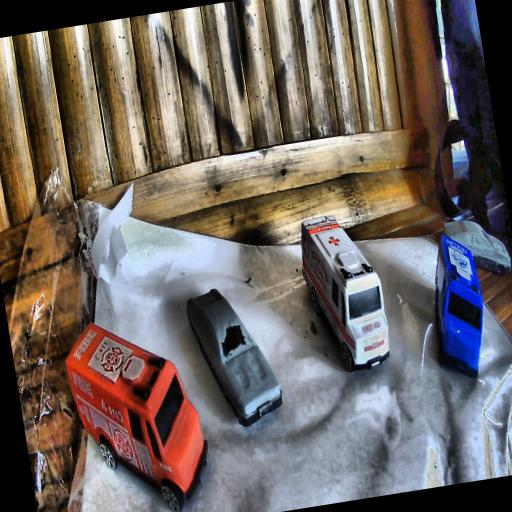ambulance: (294, 206, 394, 376)
fire_truck: (61, 307, 218, 512)
normal_car: (182, 280, 284, 431), (443, 211, 512, 282)
police car: (418, 230, 494, 384)
